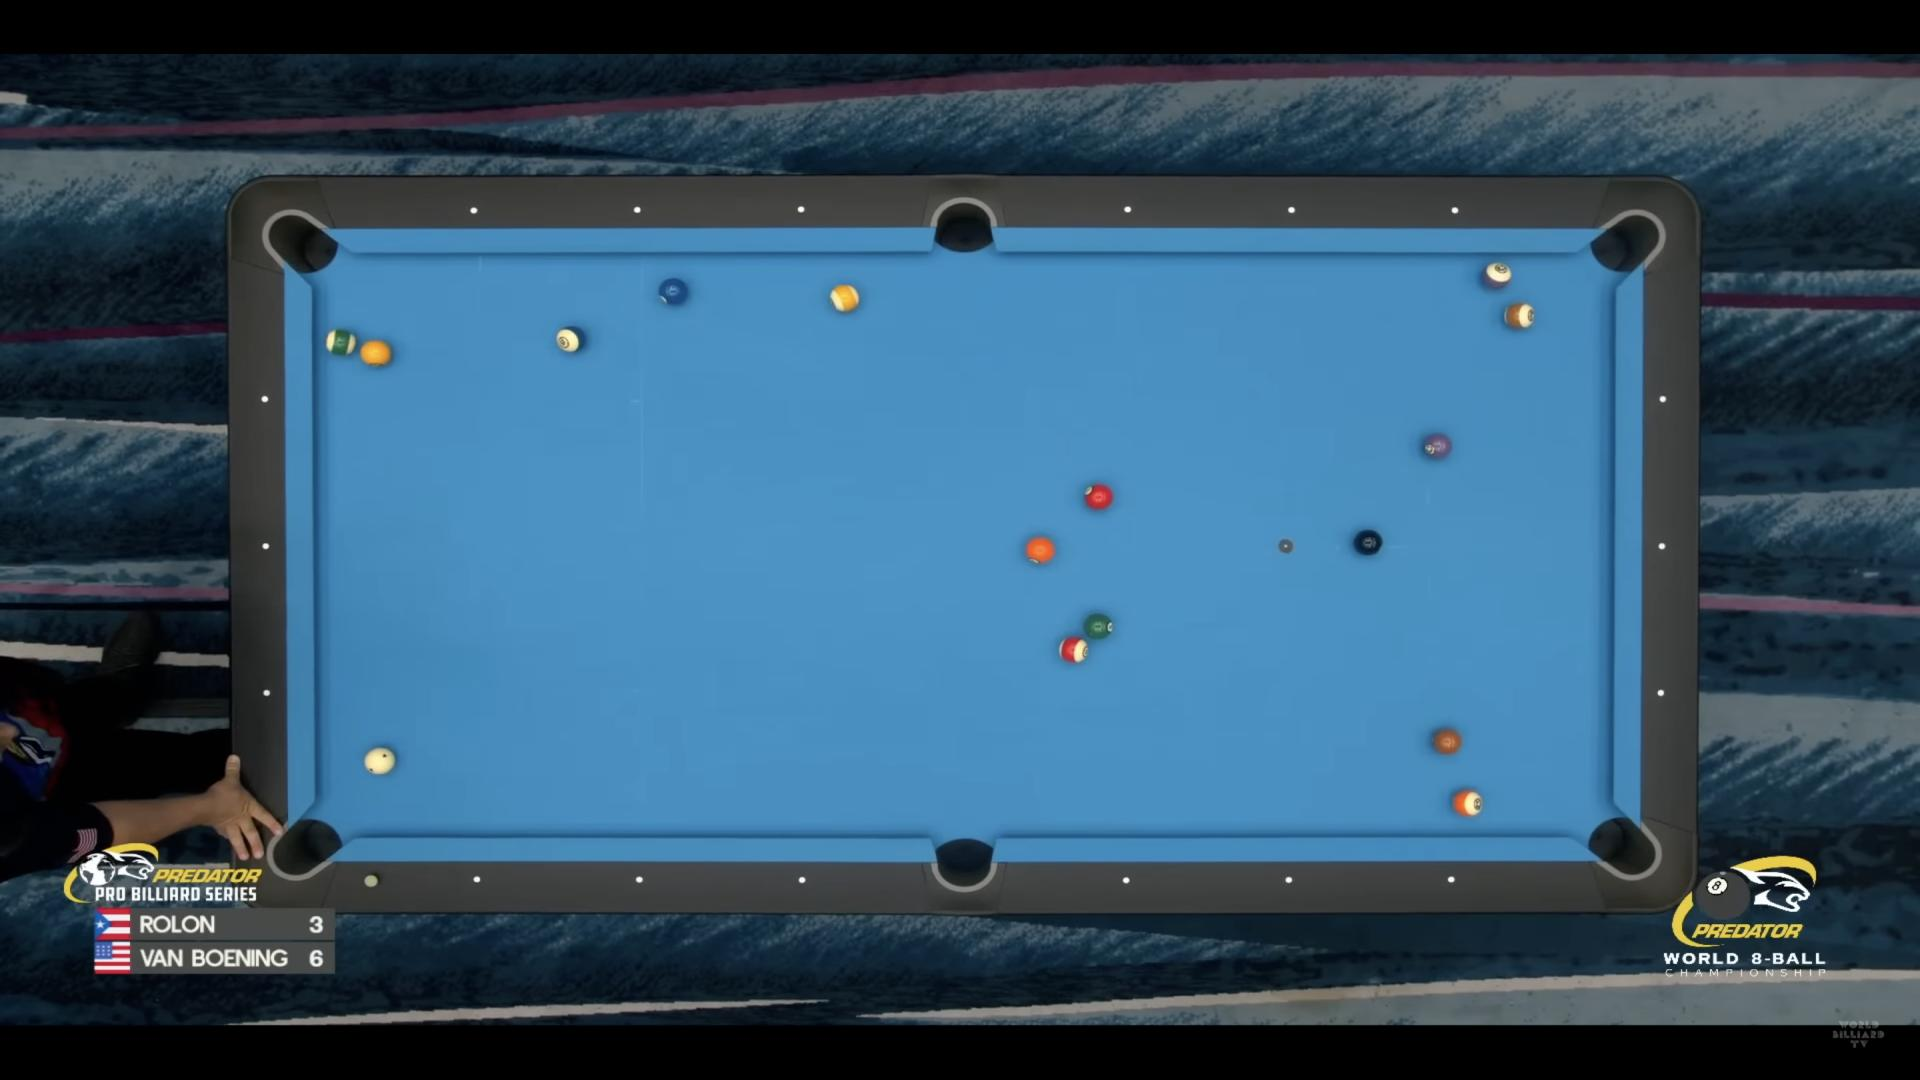Black: (1354, 530, 1383, 555)
Cue: (364, 748, 396, 775)
Dot: (1655, 392, 1671, 405), (1654, 688, 1668, 702), (1655, 541, 1669, 554), (258, 393, 272, 406), (260, 687, 273, 699), (260, 541, 273, 553), (468, 206, 481, 218), (632, 204, 645, 216), (794, 203, 807, 215), (1286, 204, 1298, 216), (1449, 204, 1461, 216), (1122, 204, 1134, 215), (1283, 876, 1294, 885), (1447, 874, 1457, 884), (1122, 876, 1131, 885), (473, 876, 483, 884), (634, 876, 644, 884), (796, 876, 806, 884)
Solid: (360, 339, 392, 367), (1026, 537, 1055, 564), (658, 278, 688, 305), (1084, 613, 1113, 640), (1084, 484, 1114, 509), (1433, 728, 1462, 753), (1424, 434, 1452, 458)
Striped: (829, 284, 860, 313), (1503, 302, 1535, 330), (326, 328, 357, 356), (1453, 790, 1484, 818), (1484, 262, 1513, 289), (1059, 636, 1088, 662), (556, 326, 585, 352)
